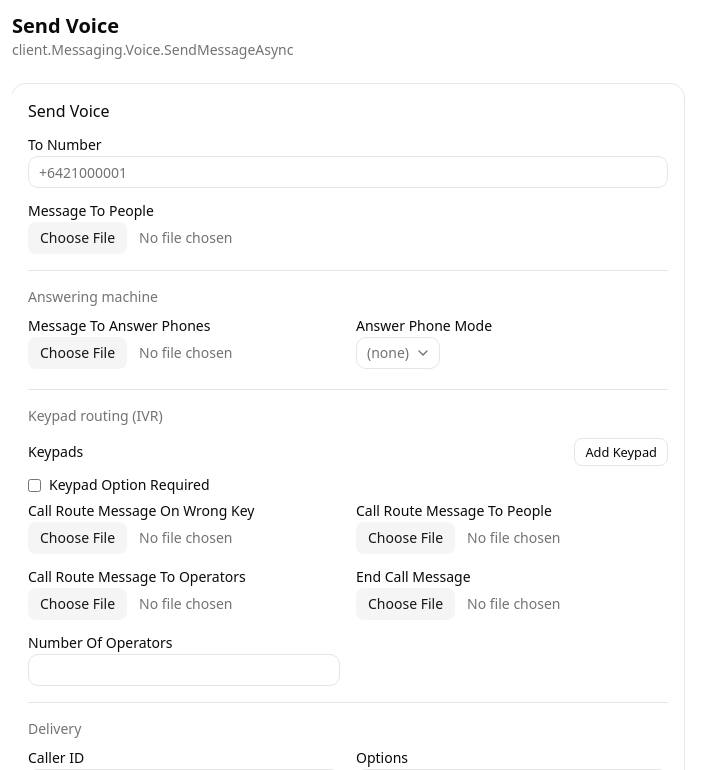
Test: VoicePage › shows Play File / File fields in the Keypad Editor (Voice, unlike TTS, uses them)
The width and height of the screenshot is (702, 770).
What coordinates should you click on to do the following:
click the button "Add Keypad"
I would click on:
 (621, 452)
Its box is [574,438,668,466].
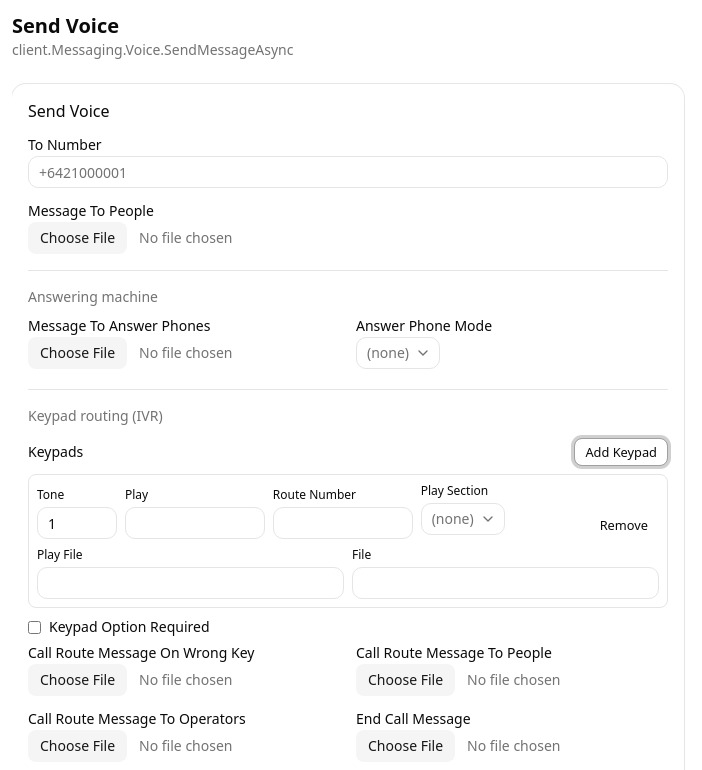
Expected: the field labelled "Play File" is shown, [37,567,344,599]
Expected: the field labelled "File" is shown, [352,567,659,599]
